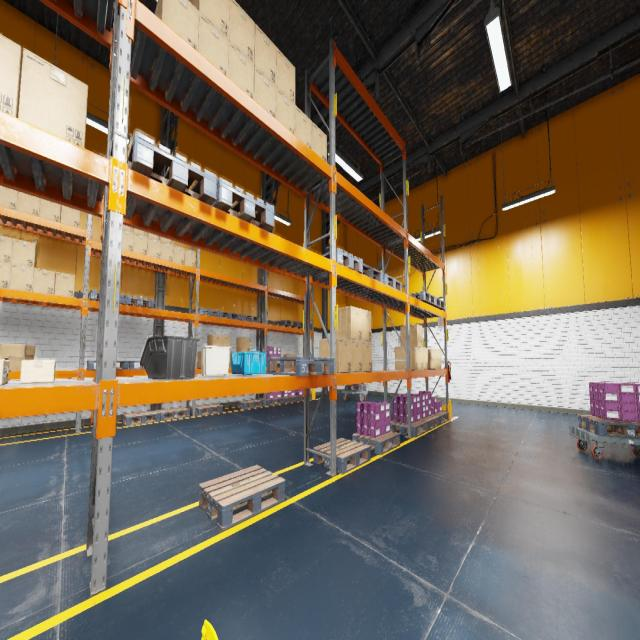box: (18, 48, 88, 148), (155, 0, 199, 51), (198, 12, 229, 77), (0, 33, 22, 117), (188, 0, 230, 40), (229, 0, 255, 64), (228, 41, 254, 99), (254, 24, 276, 85), (319, 337, 351, 373), (254, 66, 276, 118), (276, 48, 295, 104), (276, 87, 295, 135), (0, 344, 35, 370), (336, 306, 362, 340), (20, 360, 56, 383), (12, 238, 38, 267), (295, 105, 311, 149), (9, 264, 34, 292), (394, 346, 418, 370), (312, 121, 326, 162), (33, 268, 55, 294), (17, 192, 40, 216), (54, 271, 75, 297), (400, 324, 422, 347), (39, 199, 61, 222), (60, 205, 80, 228), (0, 185, 18, 210), (0, 235, 13, 263), (351, 339, 362, 372), (133, 233, 148, 255), (362, 340, 372, 372), (362, 308, 371, 341), (0, 262, 11, 289), (147, 237, 161, 258), (428, 348, 442, 368), (122, 229, 134, 251), (160, 242, 173, 262), (0, 357, 9, 385), (172, 245, 185, 264), (184, 248, 196, 268), (236, 336, 250, 352), (207, 334, 222, 346), (283, 354, 296, 367), (422, 347, 428, 369), (417, 347, 423, 369), (222, 336, 230, 352), (134, 228, 148, 237), (230, 352, 238, 367), (148, 233, 161, 240), (161, 237, 173, 244), (123, 225, 134, 232), (197, 351, 201, 368), (229, 352, 230, 367)
pallets: (126, 132, 217, 205), (199, 465, 285, 531), (212, 178, 274, 231), (313, 438, 371, 473), (578, 414, 640, 439), (267, 356, 334, 376), (352, 431, 400, 454), (322, 248, 362, 273), (390, 419, 428, 436), (353, 263, 383, 283), (123, 410, 160, 426), (88, 289, 124, 304), (156, 407, 190, 421), (87, 360, 128, 370), (123, 295, 154, 308), (192, 404, 222, 416), (410, 291, 435, 305), (383, 274, 402, 292), (420, 415, 440, 430), (236, 399, 263, 409), (192, 308, 220, 317), (431, 412, 449, 424), (259, 398, 284, 406), (220, 311, 240, 320), (276, 320, 299, 327), (240, 315, 261, 322), (432, 297, 444, 309), (128, 360, 144, 369), (345, 385, 366, 391), (281, 396, 298, 403), (296, 322, 312, 328), (295, 395, 311, 401), (266, 363, 280, 367)
